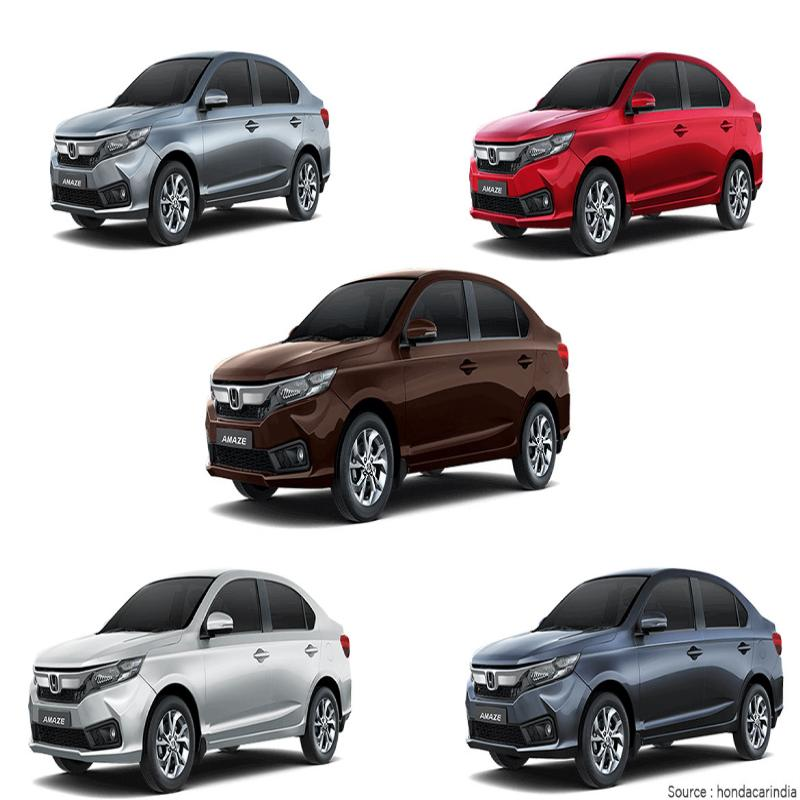car: (207, 236, 584, 517), (461, 548, 781, 800), (17, 538, 351, 779), (465, 43, 770, 262), (24, 27, 339, 236)
